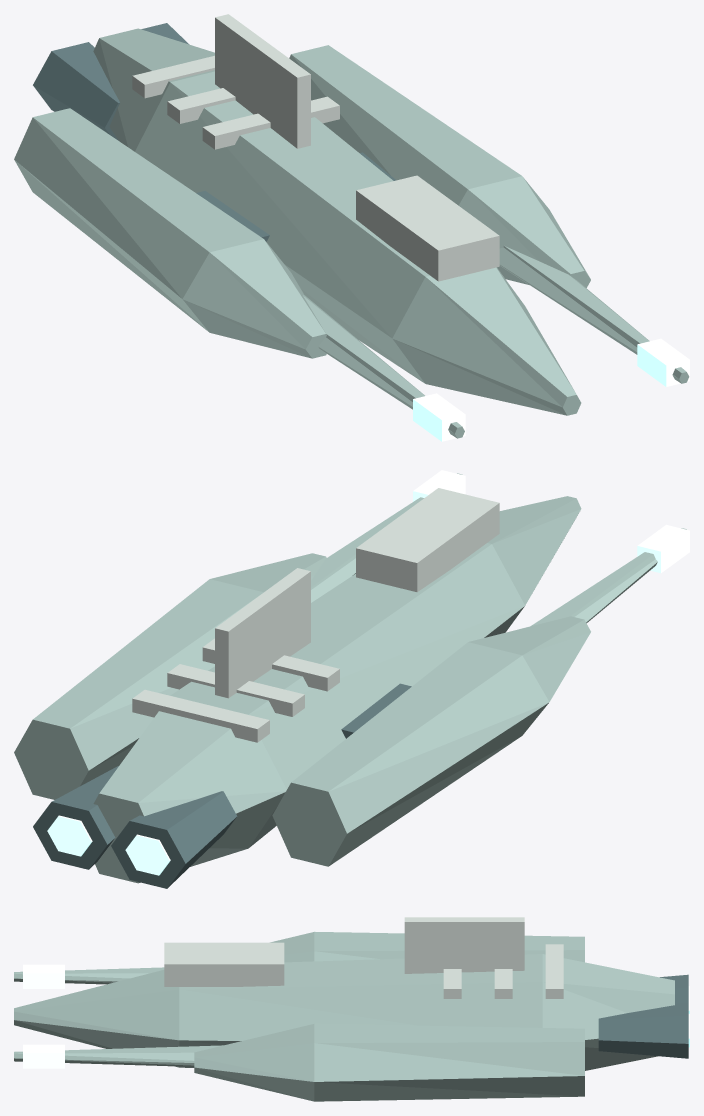
3 renders of one model, top to bottom at view 1: azimuth 30°, elevation 25°; view 2: azimuth 150°, elevation 25°; view 3: azimuth 270°, elevation 25°, orthographic. The views are drawn at different scales.
Bounding box in the file's own units: 2.16 × 1.12 × 4.72.
